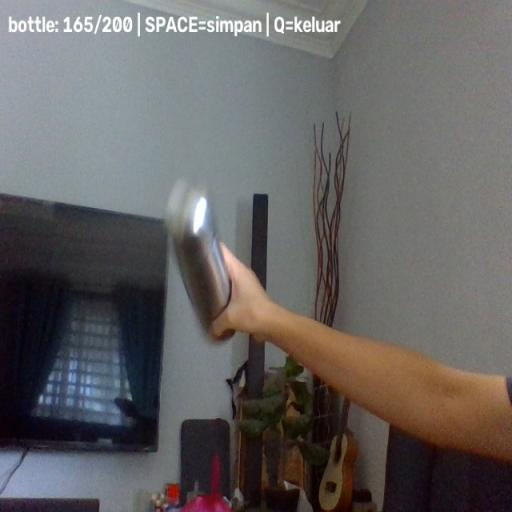Bottle: (164, 178, 234, 340)
